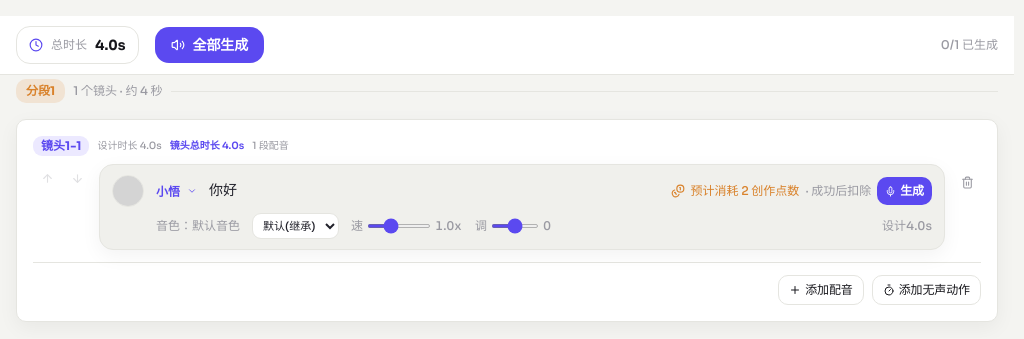
Test: DubbingPanel speaker avatar › shows the narrator fallback avatar after switching to narrator
Select "旁白" in the dropdown showing "小悟" next to "你好". click: (176, 192)
box: [156,184,197,200]
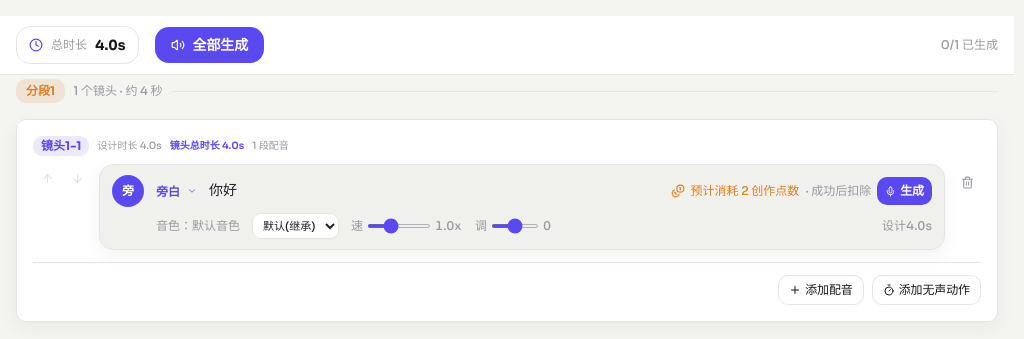
Expected: the picture is gone
Expected: the text "旁" is shown, [112,175,144,207]
